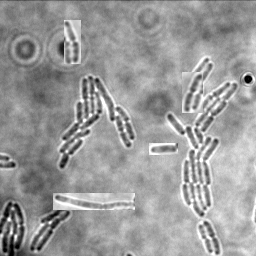Dividing: (53, 193, 135, 210), (182, 72, 203, 113), (64, 20, 81, 64), (204, 219, 222, 255), (199, 223, 215, 253), (149, 143, 178, 155)
Microcolony: (167, 57, 238, 216), (59, 75, 136, 169), (30, 204, 72, 251), (1, 200, 26, 255)
